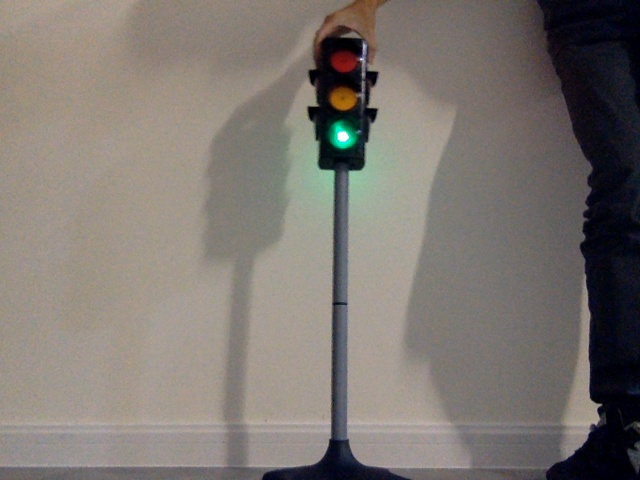green: (325, 49, 359, 158)
